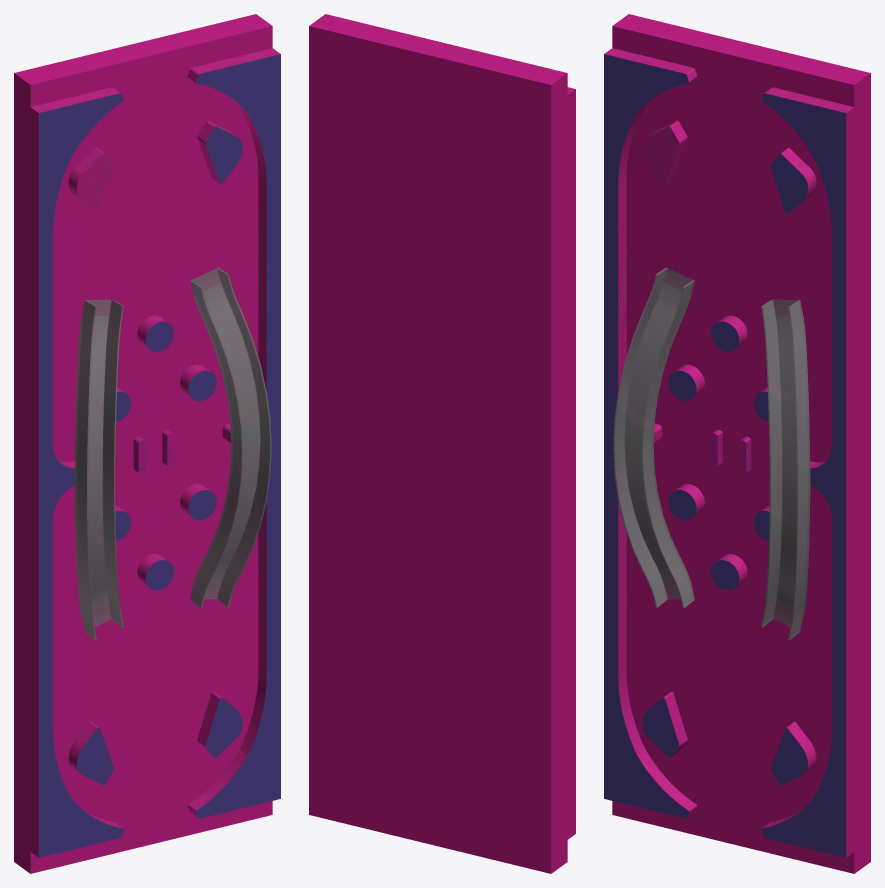
The model's file is multiplayer.dae.
3 renders of one model, left to right at view 1: azimuth 30°, elevation 25°; view 2: azimuth 150°, elevation 25°; view 3: azimuth 330°, elevation 25°, orthographic.
Parts seen in each view (by area): view 1: SketchUp (×19); view 2: SketchUp; view 3: SketchUp (×19).
Part boxes in pixels (x1,y1,x2,y2): SketchUp (×19): [14, 14, 280, 873]; SketchUp: [309, 14, 575, 873]; SketchUp (×19): [604, 14, 870, 873].
Bounding box in the file's own units: 3346 × 1058 × 10419.
